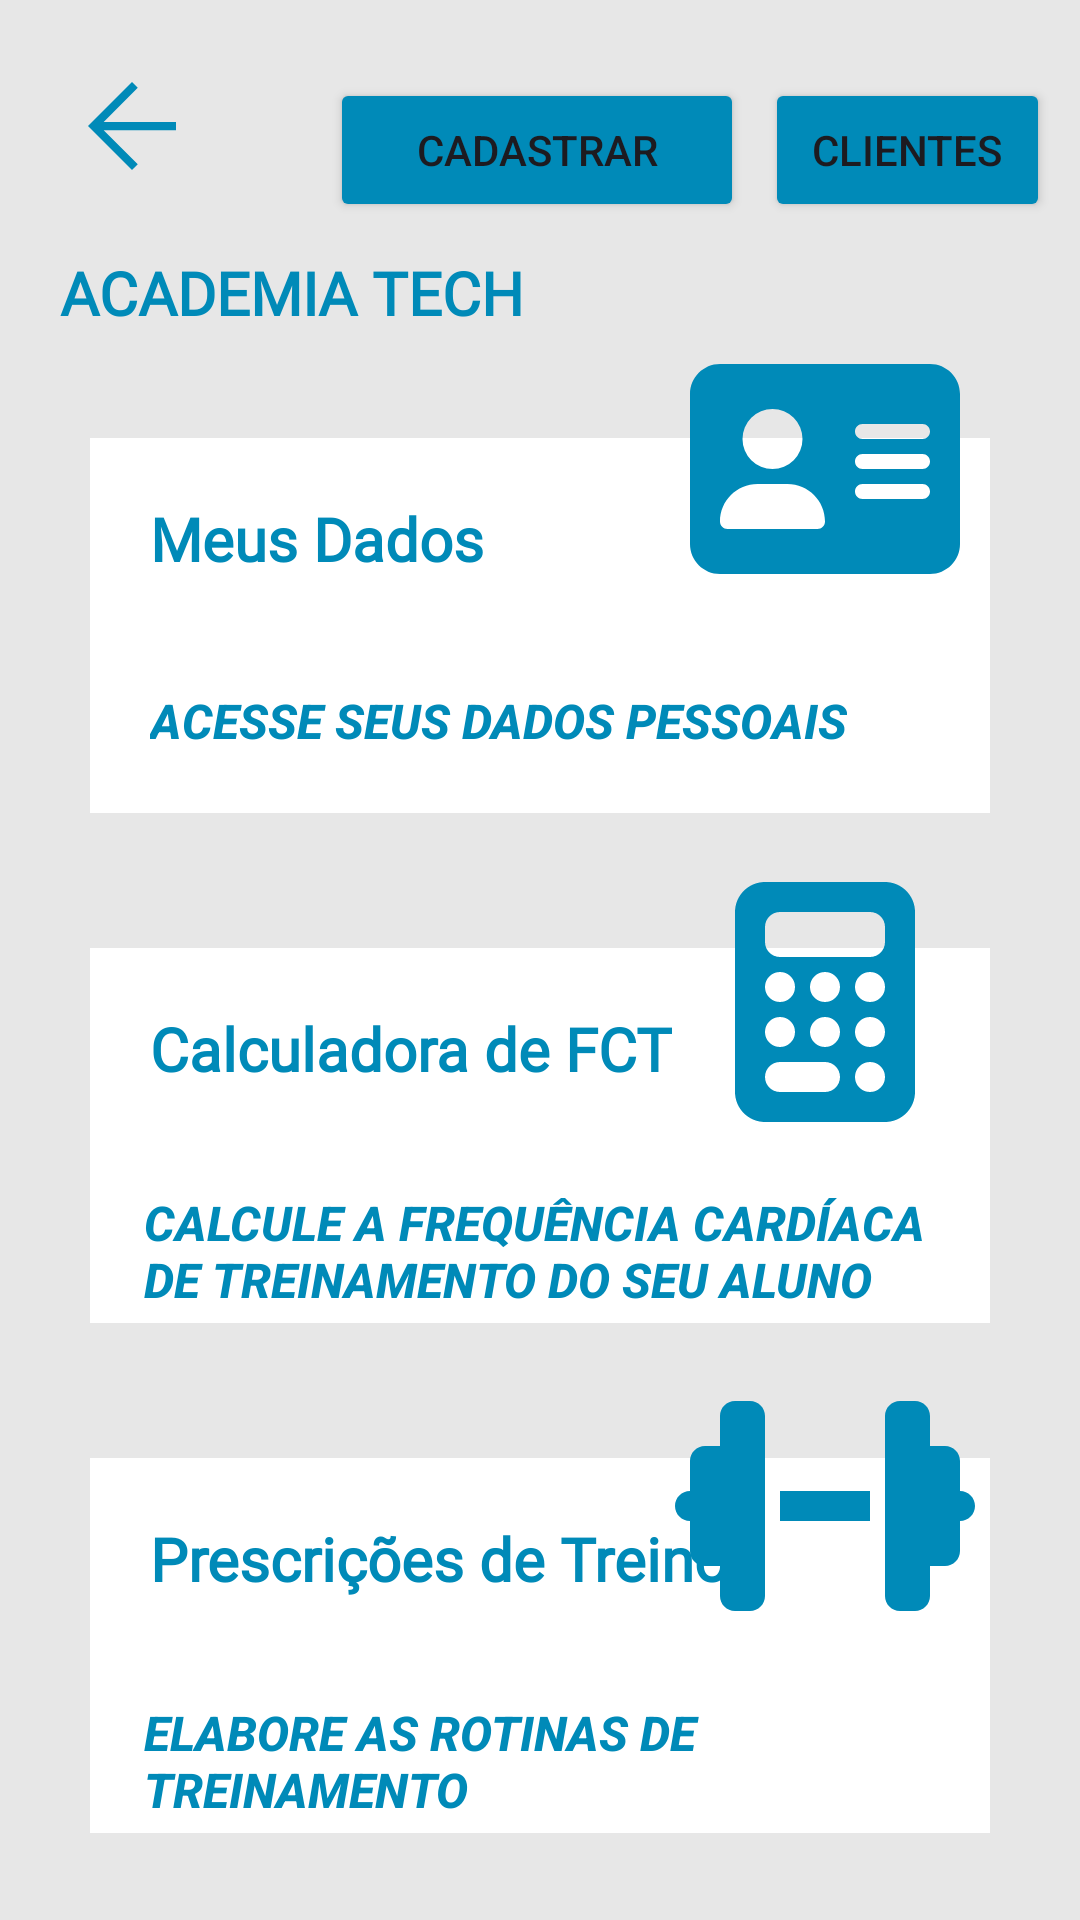

Icons on this 1080x1920 Android screen, each with the point to tap as point (x, y):
address card: point (825, 469)
arrowback: point (132, 126)
